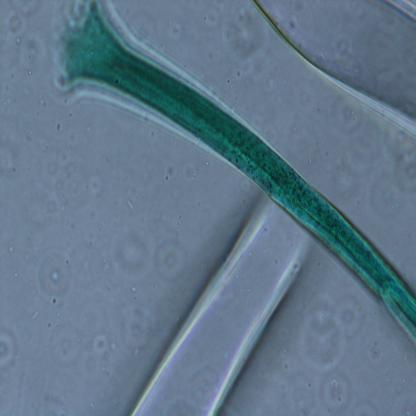Air bubble: (129, 204, 310, 414), (251, 0, 416, 140)
Background material: (45, 317, 120, 382), (306, 287, 362, 366), (336, 105, 371, 200), (5, 21, 52, 90), (372, 150, 416, 214), (225, 4, 263, 61), (34, 248, 75, 300), (39, 140, 79, 192), (114, 229, 149, 285), (121, 298, 151, 351), (320, 370, 352, 413), (158, 238, 186, 282), (0, 324, 20, 370), (158, 14, 186, 44), (198, 6, 220, 35), (155, 160, 176, 185), (32, 311, 42, 322), (4, 243, 14, 251)
Microfibre: (55, 2, 416, 333)
